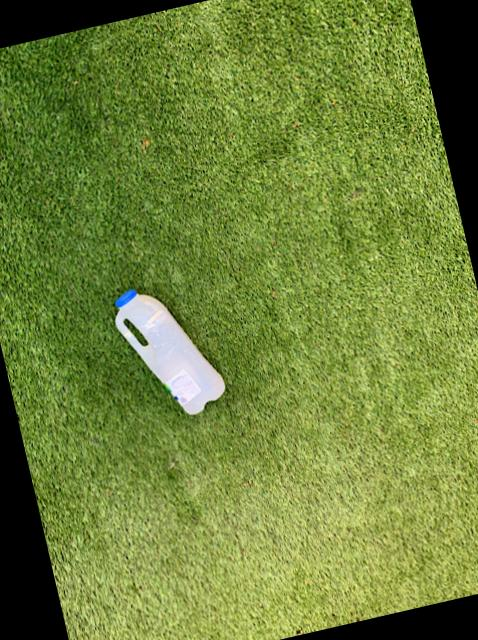plastic: (113, 290, 222, 415)
